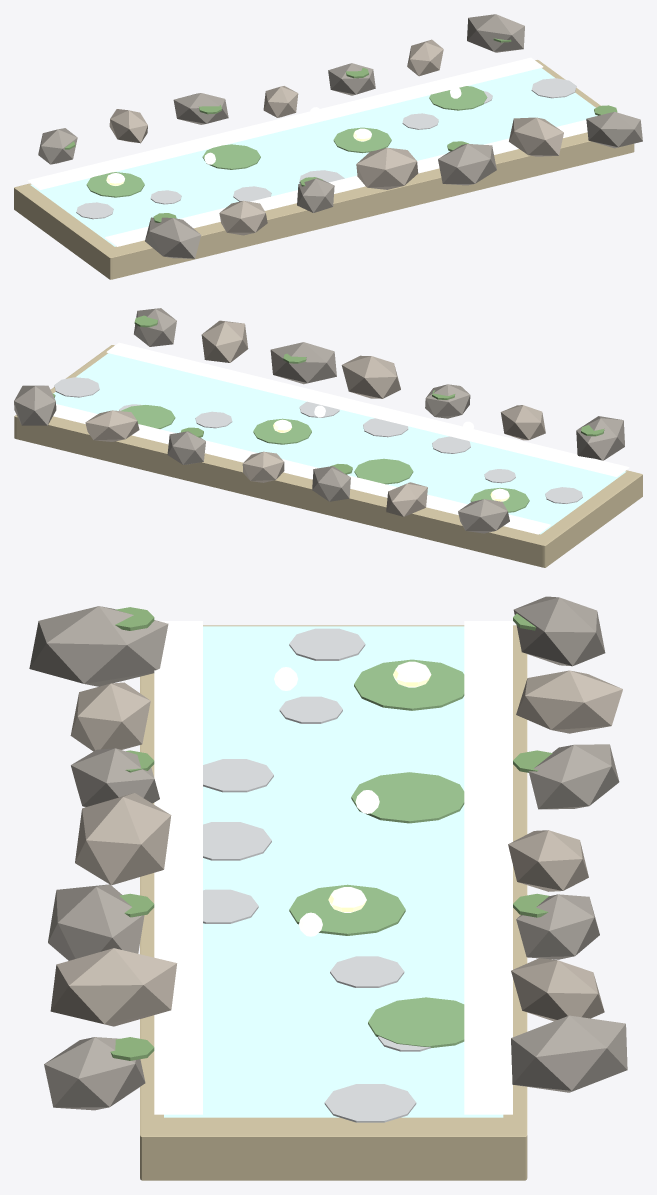
The model's file is stream_segment.glb.
The picture shows the model from 3 angles, top to bottom: view 1: azimuth 30°, elevation 25°; view 2: azimuth 150°, elevation 25°; view 3: azimuth 270°, elevation 25°; orthographic projection. The views are drawn at different scales.
Visible parts, largest first — view 1: stream_segment; view 2: stream_segment; view 3: stream_segment.
Part boxes in pixels (x1=…): stream_segment: x1=14, y1=14, x2=642, y2=279; stream_segment: x1=14, y1=308, x2=642, y2=567; stream_segment: x1=29, y1=596, x2=627, y2=1180.
Bounding box in the file's own units: 2.5 × 0.3147 × 1.23.
